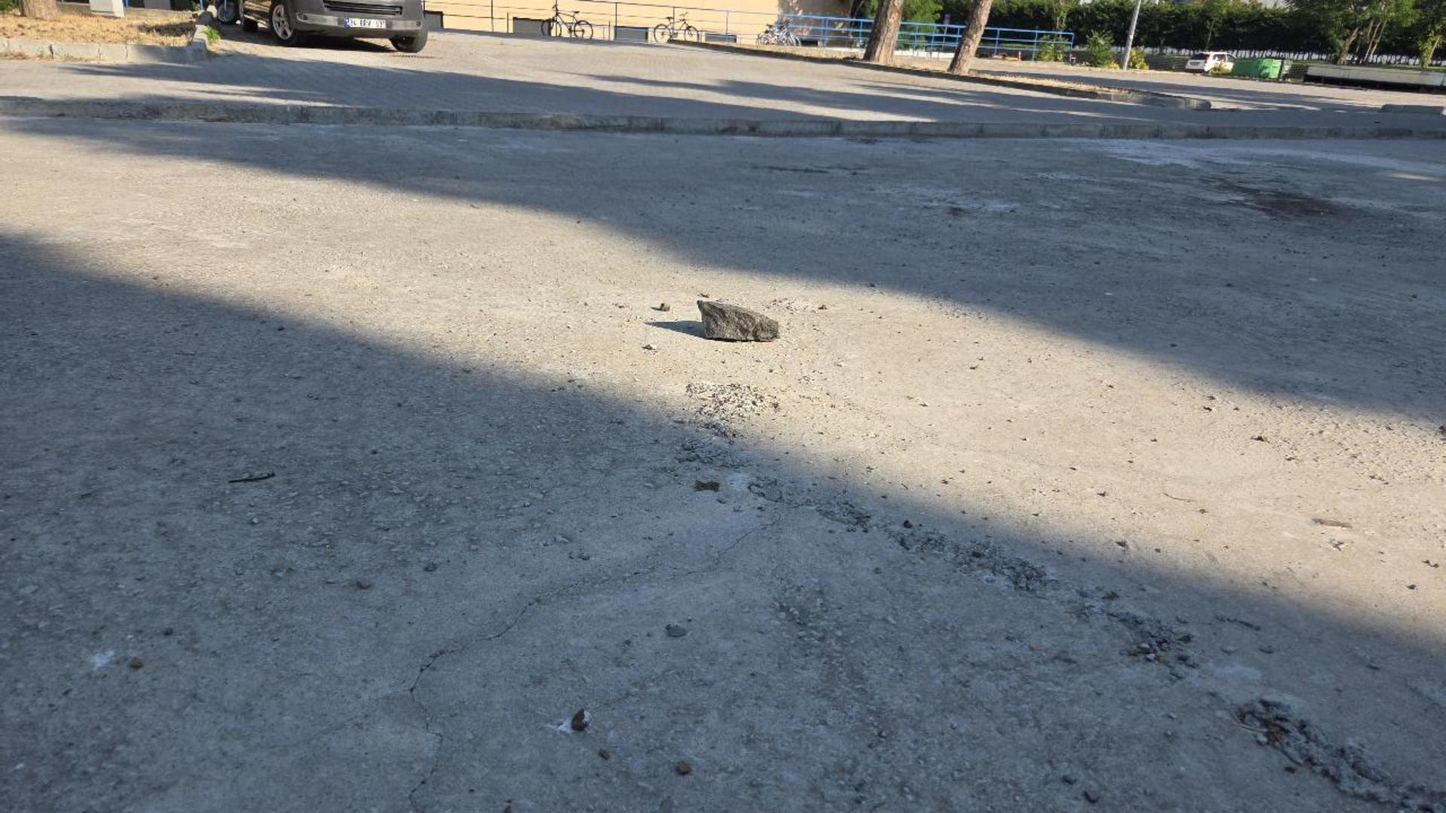rock: (697, 298, 778, 341)
